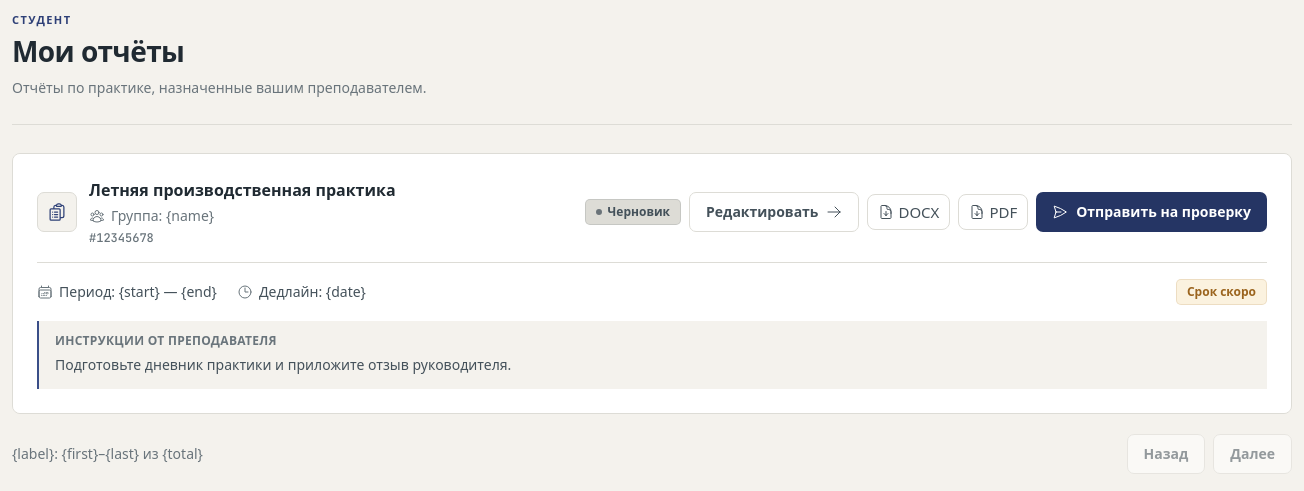
Scenario: StudentReportsPage submission › shows success feedback and refreshes the report list after submission
Click the button "Отправить на проверку". click: (1152, 212)
box: [1036,192,1267,232]
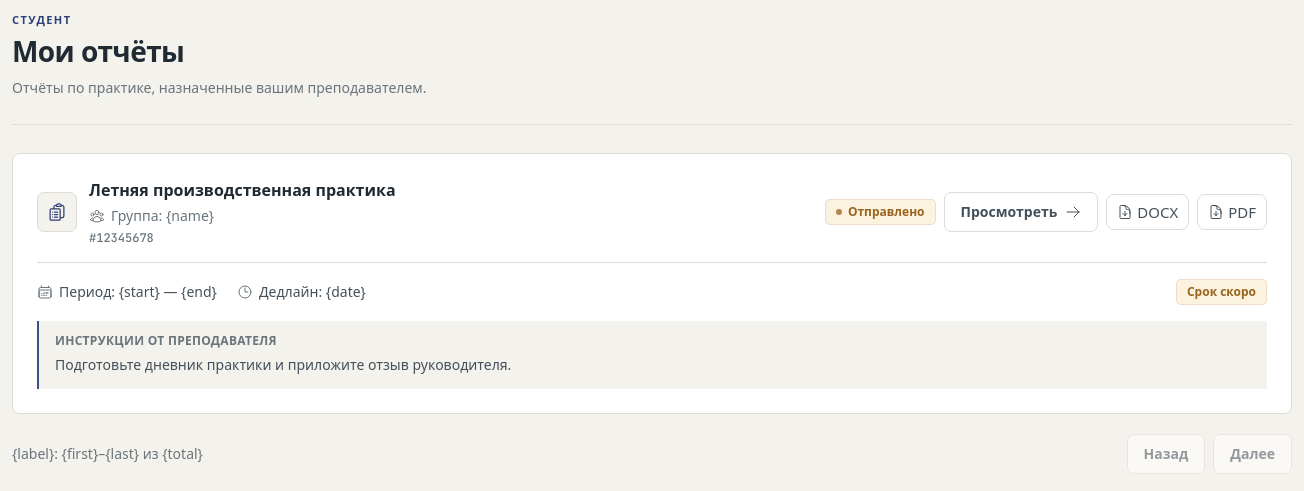
Expected: the text "Отправлено" is shown, [825,199,936,225]
